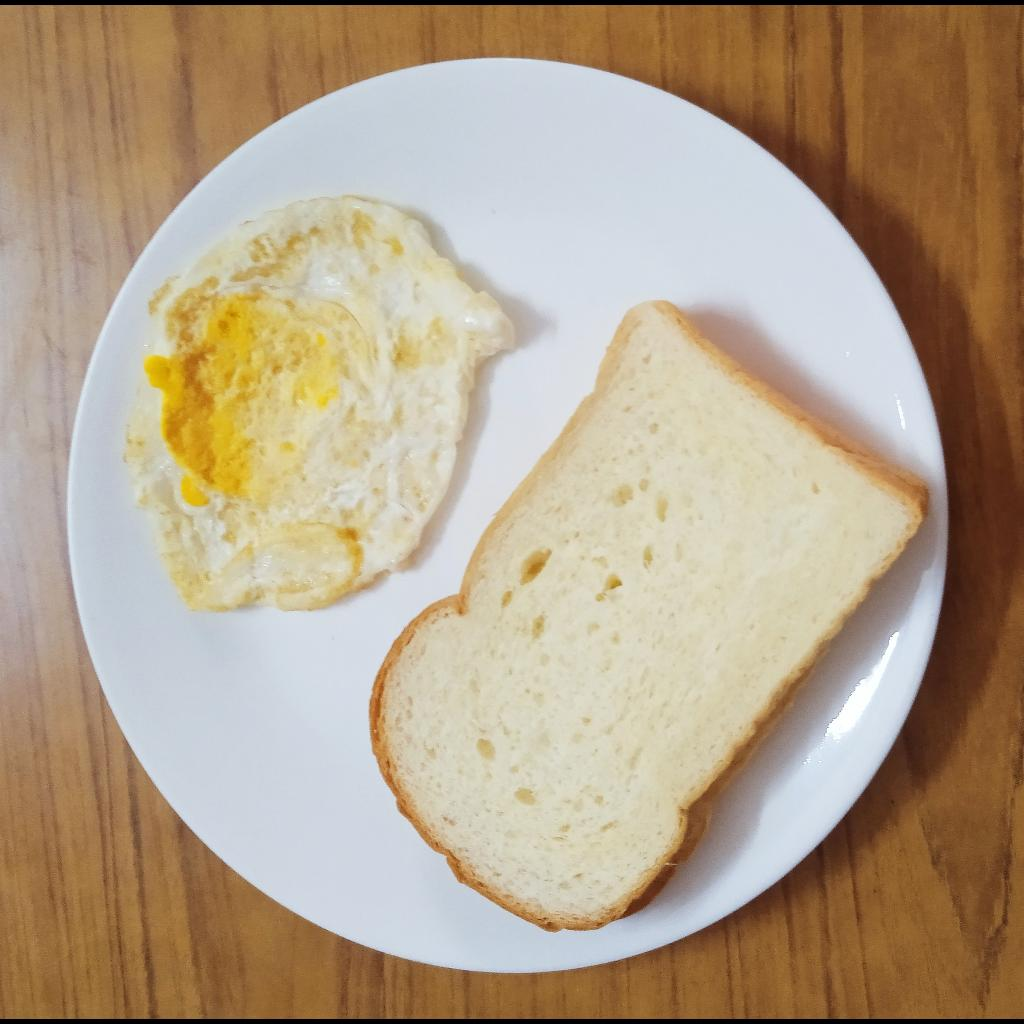bread: (367, 298, 938, 938)
egg-poached: (121, 195, 518, 614)
